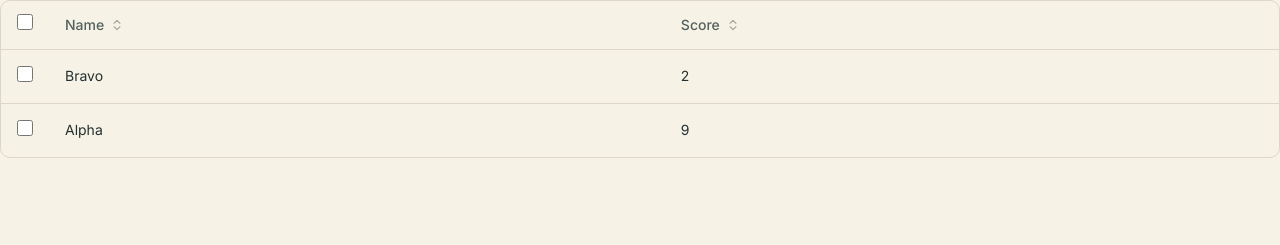
Test case: DataGrid selection › selects rows and surfaces a bulk-action bar
Click the checkbox named "Select all rows": (25, 22) 17,14 -> 33,30
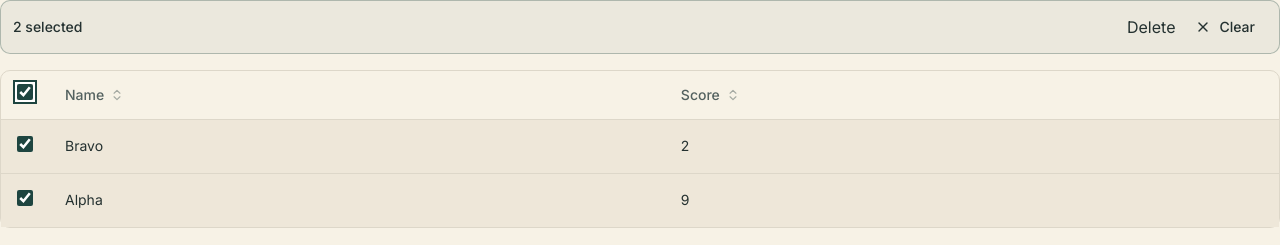
Result: the text "2 selected" is shown at 13,17 -> 82,37
Result: the button "Delete" is shown at 1127,15 -> 1176,39
Click the button "Clear": (1225, 27) 1184,9 -> 1267,45
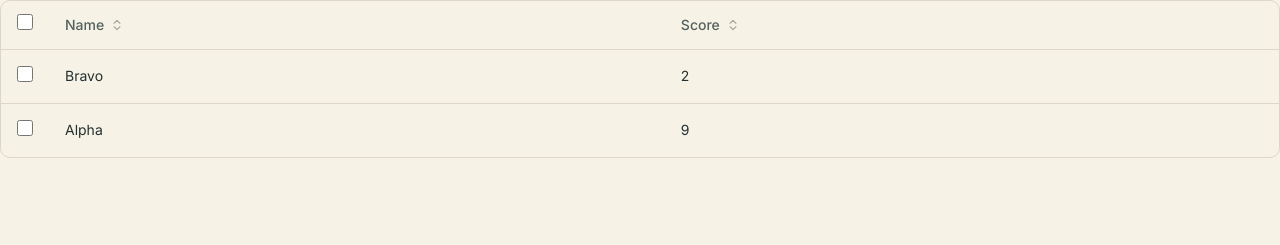
Result: the text "2 selected" is gone
